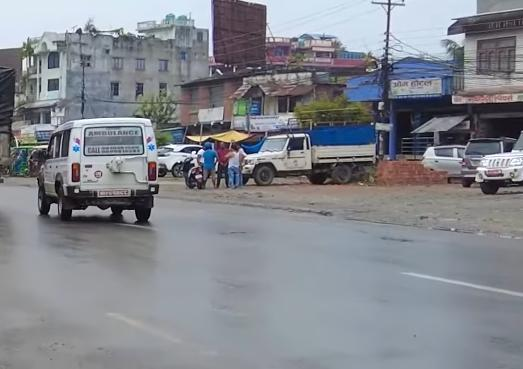ambulance: (32, 114, 163, 228)
car: (153, 141, 210, 176), (422, 139, 468, 182)
scooter: (178, 152, 206, 191)
transport_vehicle: (238, 114, 382, 189), (477, 129, 523, 193)
